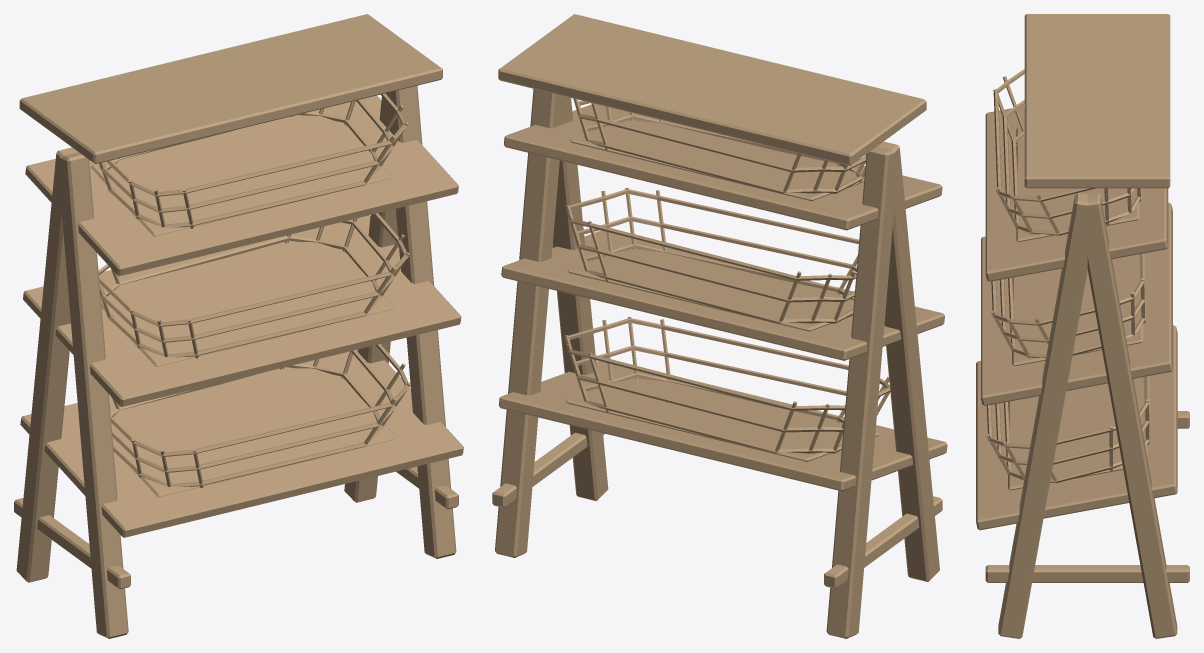
File: bakery-and-cafe-wicker-basket-display-6195b24a__22158.glb
3 views of the same model, side by side, from view 1: azimuth 30°, elevation 25°; view 2: azimuth 150°, elevation 25°; view 3: azimuth 270°, elevation 25° (orthographic). The views are drawn at different scales.
Parts seen in each view (by area): view 1: wicker-basket-display; view 2: wicker-basket-display; view 3: wicker-basket-display.
Part boxes in pixels (x1,y1,x2,y2): wicker-basket-display: (14, 14, 463, 638); wicker-basket-display: (492, 14, 947, 638); wicker-basket-display: (976, 14, 1189, 638).
Size of the model in its own units: 0.8001 by 1.05 by 0.4397.
